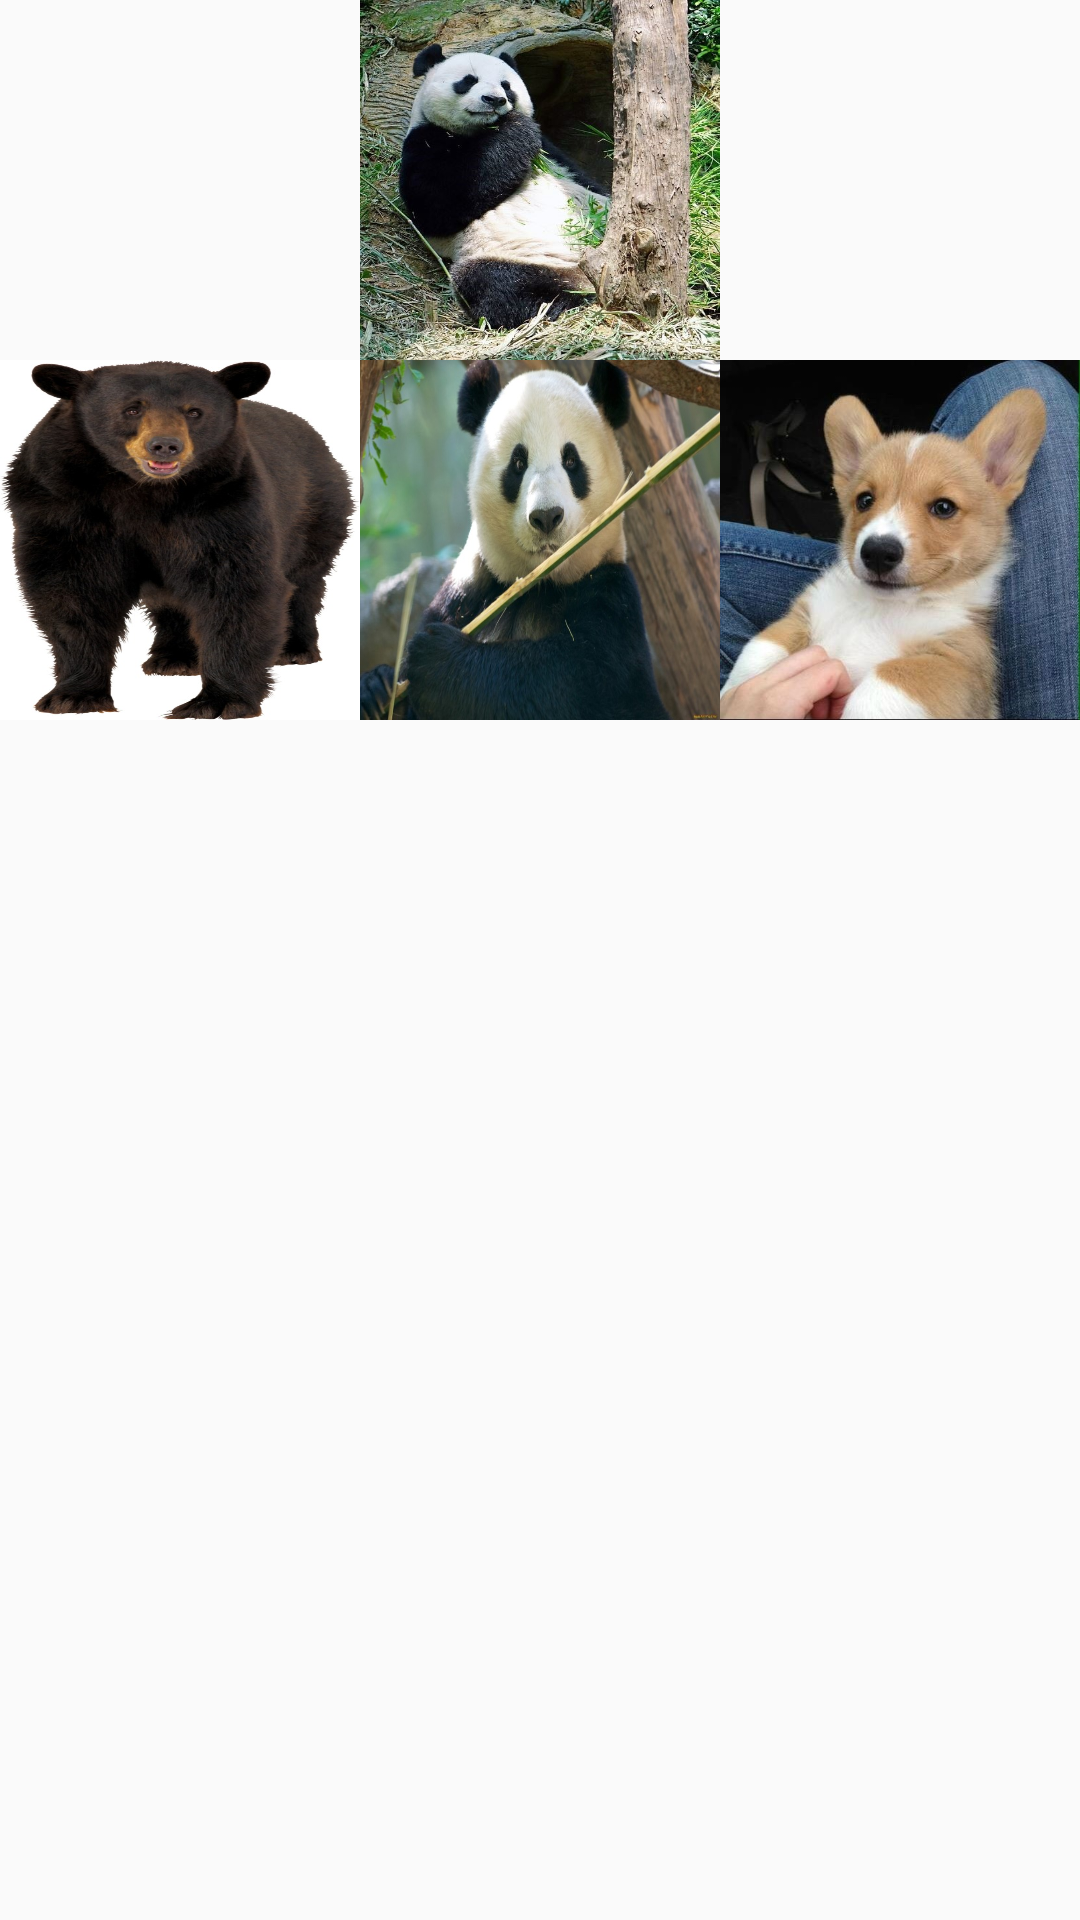

Named icons in this screenshot (1080×1920) and their centers, (x,y):
bear: (180,540)
cutedog: (900,540)
panda: (540,180), (540,540)
